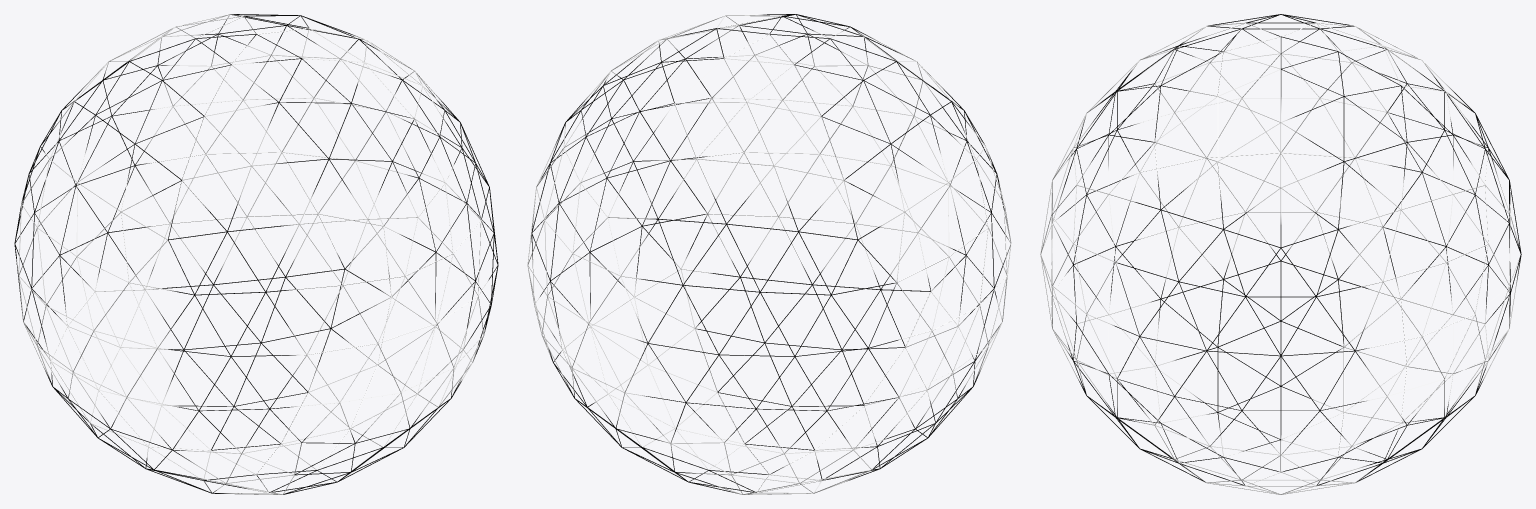
Rendered from capsuleHead.obj.
The picture shows the model from 3 angles, left to right: view 1: azimuth 30°, elevation 25°; view 2: azimuth 150°, elevation 25°; view 3: azimuth 270°, elevation 25°; orthographic projection.
Parts seen in each view (by area): view 1: ICO球; view 2: ICO球; view 3: ICO球.
Boxes of the visible parts, x1,y1,x2,y2 form: ICO球: [14, 14, 498, 494]; ICO球: [527, 14, 1011, 494]; ICO球: [1040, 14, 1521, 494].
Size of the model in its own units: 2 by 2 by 2.
